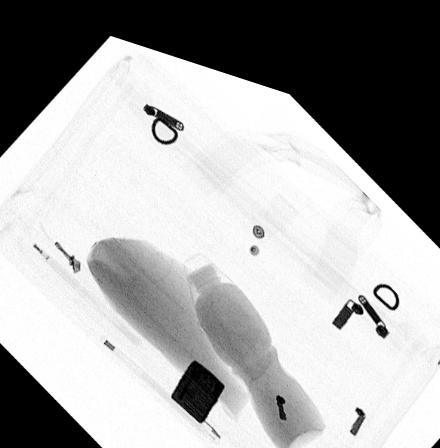Lighter: (169, 345, 225, 409)
